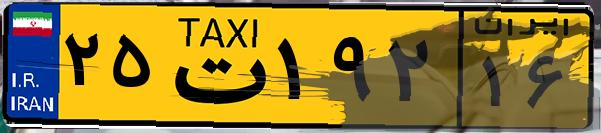1: (270, 28, 330, 110), (475, 38, 525, 113)
2: (385, 28, 445, 110), (57, 26, 110, 100)
5: (110, 28, 158, 98)
6: (525, 38, 570, 115)
9: (330, 28, 385, 110)
ت: (158, 12, 270, 120)
